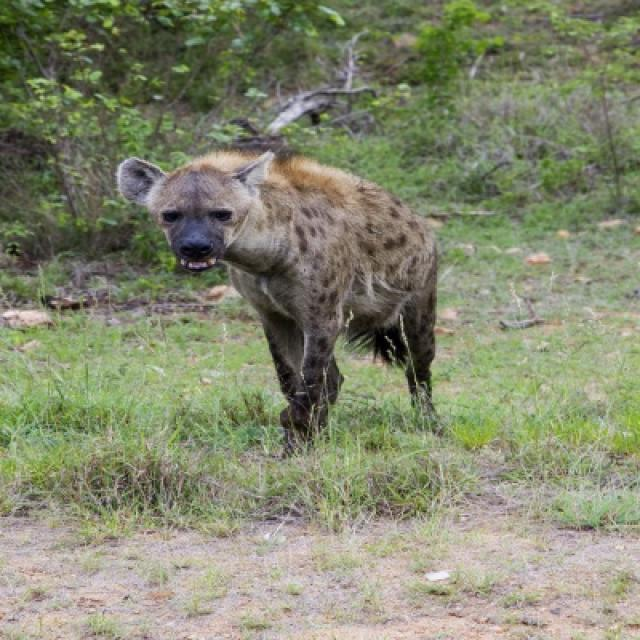hyena: (118, 146, 437, 437)
